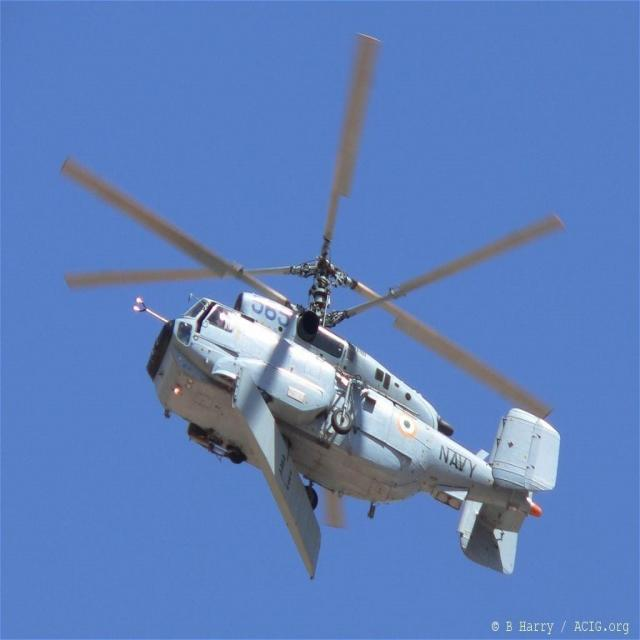MIL_HELO: (50, 28, 620, 588)
